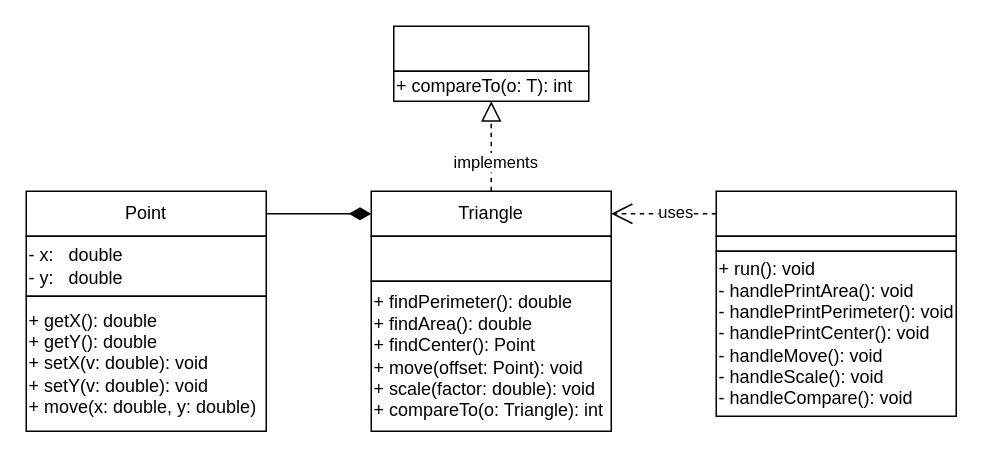
This 983x458 diagram has some shape labels left out. Each missing label, with the centre of its shape:
- points: Point[3]: (490,258)
Comparable<T>: (490,48)
ConsoleRunner: (835,213)
